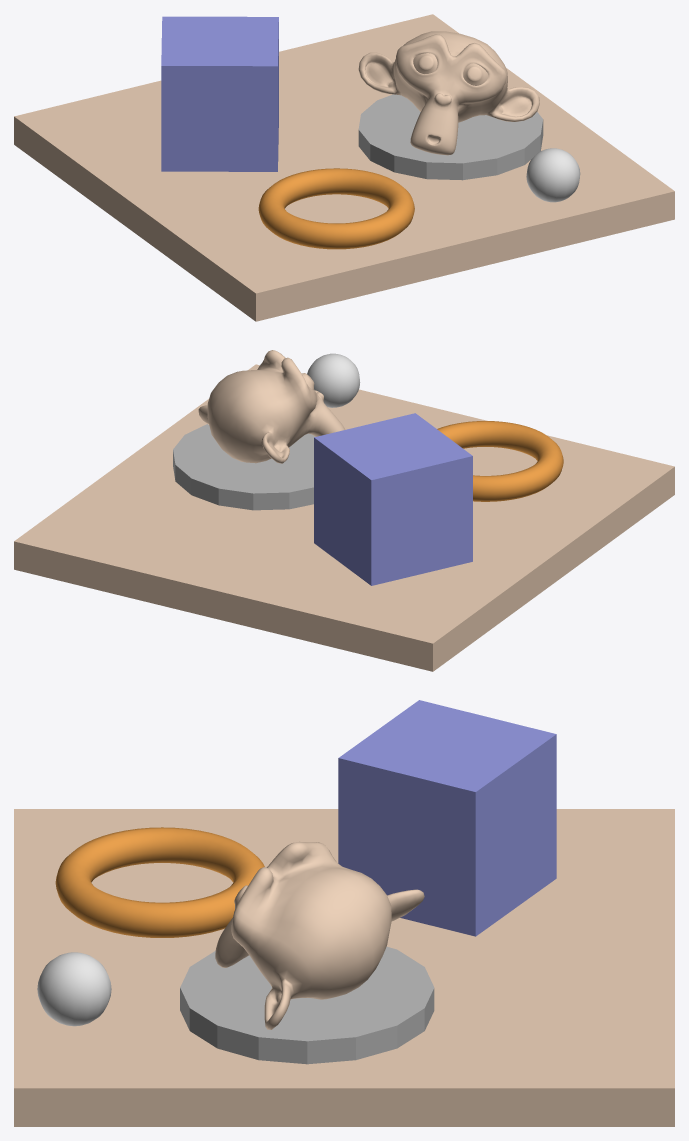
Rendered from hdri_test.dae.
3 renders of one model, top to bottom at view 1: azimuth 30°, elevation 25°; view 2: azimuth 150°, elevation 25°; view 3: azimuth 270°, elevation 25°, orthographic. The views are drawn at different scales.
Visible parts, largest first — view 1: Ground, Cube, Suzanne, Base, Torus.001, Sphere; view 2: Ground, Cube, Suzanne, Base, Torus.001, Sphere; view 3: Ground, Cube, Suzanne, Base, Torus.001, Sphere.
Boxes of the visible parts, bbox=[...] form: Ground: bbox=[14, 14, 674, 321]; Cube: bbox=[161, 16, 278, 171]; Suzanne: bbox=[358, 31, 539, 155]; Base: bbox=[358, 94, 543, 180]; Torus.001: bbox=[258, 168, 414, 249]; Sphere: bbox=[526, 148, 580, 202]; Ground: bbox=[14, 364, 674, 671]; Cube: bbox=[314, 413, 472, 585]; Suzanne: bbox=[198, 350, 345, 463]; Base: bbox=[173, 424, 315, 510]; Torus.001: bbox=[437, 421, 563, 501]; Sphere: bbox=[307, 353, 360, 407]; Ground: bbox=[14, 809, 674, 1126]; Cube: bbox=[338, 700, 556, 936]; Suzanne: bbox=[215, 841, 424, 1029]; Base: bbox=[180, 946, 434, 1064]; Torus.001: bbox=[55, 827, 264, 937]; Sphere: bbox=[37, 952, 111, 1026].
Bounding box in the file's own units: 2.6 × 2.6 × 0.841.
